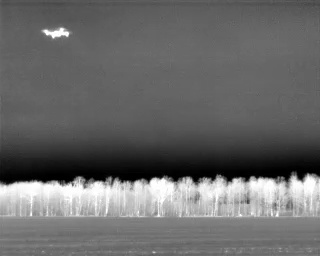DRONE: (38, 22, 75, 44)
